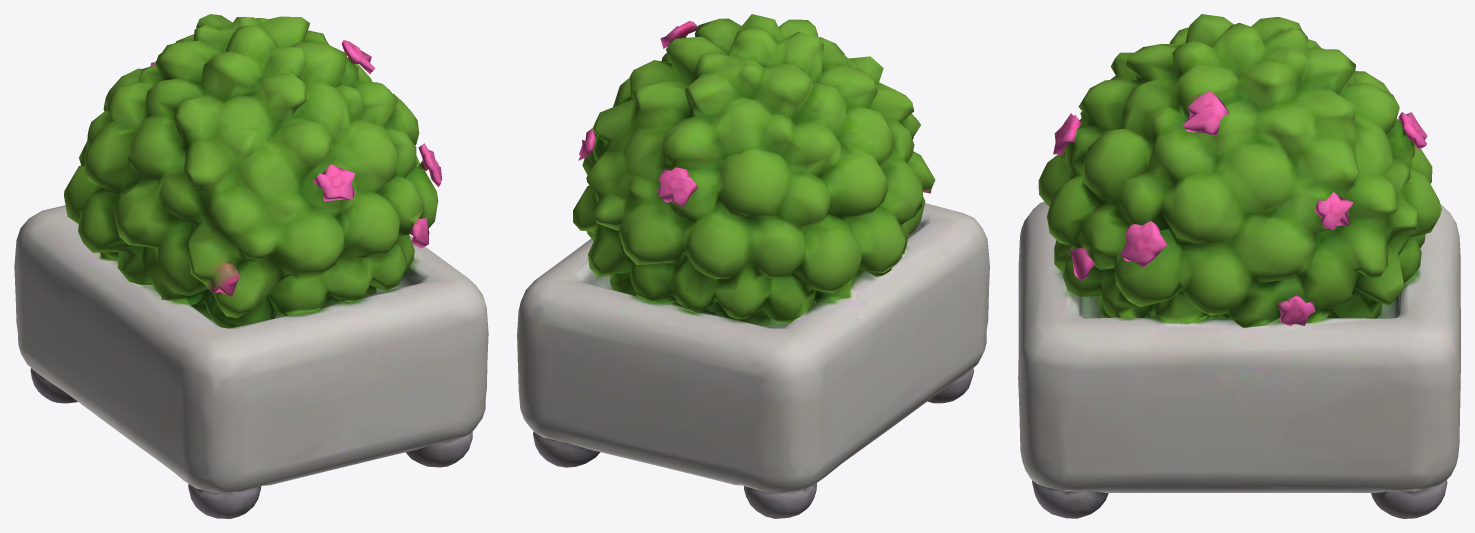
Rendered from planter.glb.
3 views of the same model, side by side, from view 1: azimuth 30°, elevation 25°; view 2: azimuth 150°, elevation 25°; view 3: azimuth 270°, elevation 25° (orthographic). The views are drawn at different scales.
Visible parts, largest first — view 1: tripo_node_f5d6c07f-ad18-463d-aad6-5e279b284dc2; view 2: tripo_node_f5d6c07f-ad18-463d-aad6-5e279b284dc2; view 3: tripo_node_f5d6c07f-ad18-463d-aad6-5e279b284dc2.
Part boxes in pixels (left/top/right/bottom): tripo_node_f5d6c07f-ad18-463d-aad6-5e279b284dc2: left=14, top=14, right=488, bottom=518; tripo_node_f5d6c07f-ad18-463d-aad6-5e279b284dc2: left=517, top=14, right=989, bottom=518; tripo_node_f5d6c07f-ad18-463d-aad6-5e279b284dc2: left=1018, top=14, right=1460, bottom=518.
Size of the model in its own units: 0.8105 by 0.9779 by 0.9157.
1 material, 1 textured.
